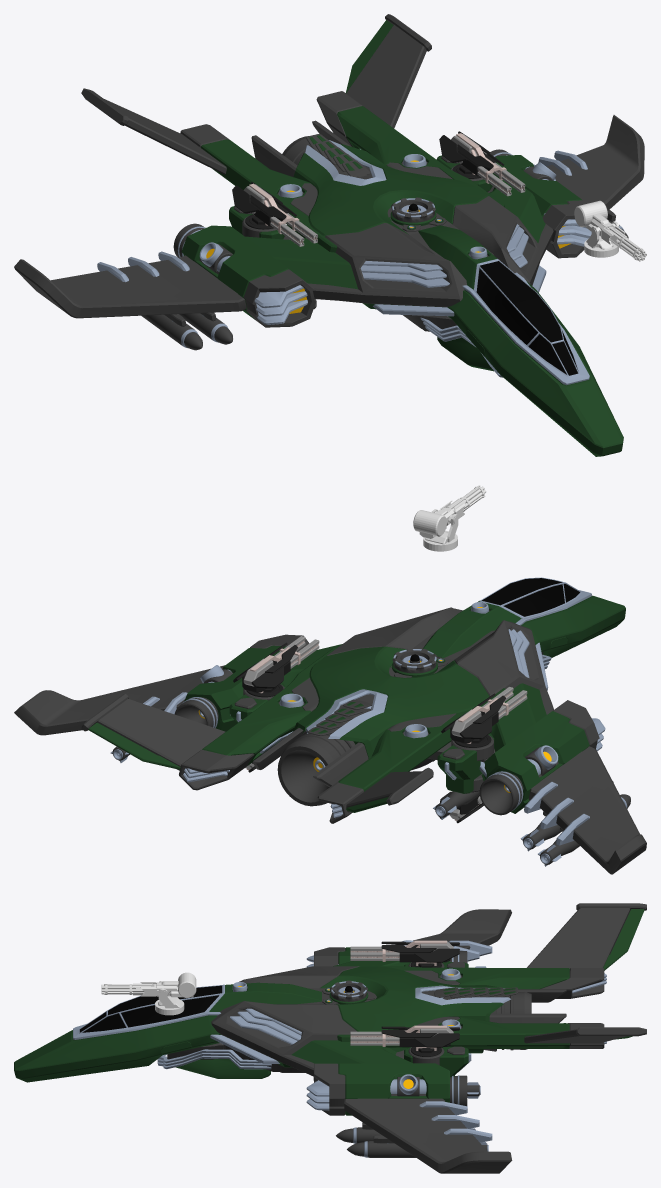
Rendered from Falcon 3.fbx.
The picture shows the model from 3 angles, top to bottom: view 1: azimuth 30°, elevation 25°; view 2: azimuth 150°, elevation 25°; view 3: azimuth 270°, elevation 25°; orthographic projection. The views are drawn at different scales.
Visible parts, largest first — view 1: Falcon, Cylinder.004, Type A.002, Non mirrors, Cylinder.002, Cube, Type A; view 2: Falcon, Non mirrors, Type B, Cylinder.002, Cylinder.004, Type A.002, Cube, Type A; view 3: Falcon, Cylinder.002, Cylinder.004, Non mirrors, Type A.002, Cube, Type B, Type A, Cylinder.006, Cylinder.008, Cylinder.
Boxes of the visible parts, x1=… form: Falcon: x1=14, y1=14, x2=644, y2=456; Cylinder.004: x1=439, y1=131, x2=525, y2=196; Type A.002: x1=141, y1=210, x2=628, y2=350; Non mirrors: x1=282, y1=136, x2=487, y2=259; Cylinder.002: x1=232, y1=182, x2=317, y2=246; Cube: x1=574, y1=200, x2=625, y2=248; Type A: x1=229, y1=156, x2=492, y2=308; Falcon: x1=14, y1=577, x2=646, y2=874; Non mirrors: x1=277, y1=602, x2=488, y2=806; Type B: x1=229, y1=683, x2=494, y2=793; Cylinder.002: x1=441, y1=687, x2=527, y2=742; Cylinder.004: x1=233, y1=636, x2=319, y2=691; Type A.002: x1=110, y1=746, x2=630, y2=866; Cube: x1=413, y1=500, x2=464, y2=542; Type A: x1=232, y1=685, x2=493, y2=819; Falcon: x1=14, y1=903, x2=646, y2=1173; Cylinder.002: x1=350, y1=940, x2=459, y2=961; Cylinder.004: x1=350, y1=1025, x2=459, y2=1046; Non mirrors: x1=232, y1=980, x2=531, y2=1051; Type A.002: x1=336, y1=966, x2=488, y2=1157; Cube: x1=140, y1=972, x2=196, y2=1008; Type B: x1=404, y1=962, x2=471, y2=1077; Type A: x1=404, y1=962, x2=480, y2=1098; Cylinder.006: x1=350, y1=942, x2=459, y2=962; Cylinder.008: x1=350, y1=1028, x2=459, y2=1047; Cylinder: x1=101, y1=983, x2=156, y2=995.
Bounding box in the file's own units: 1560 × 397 × 1685.
